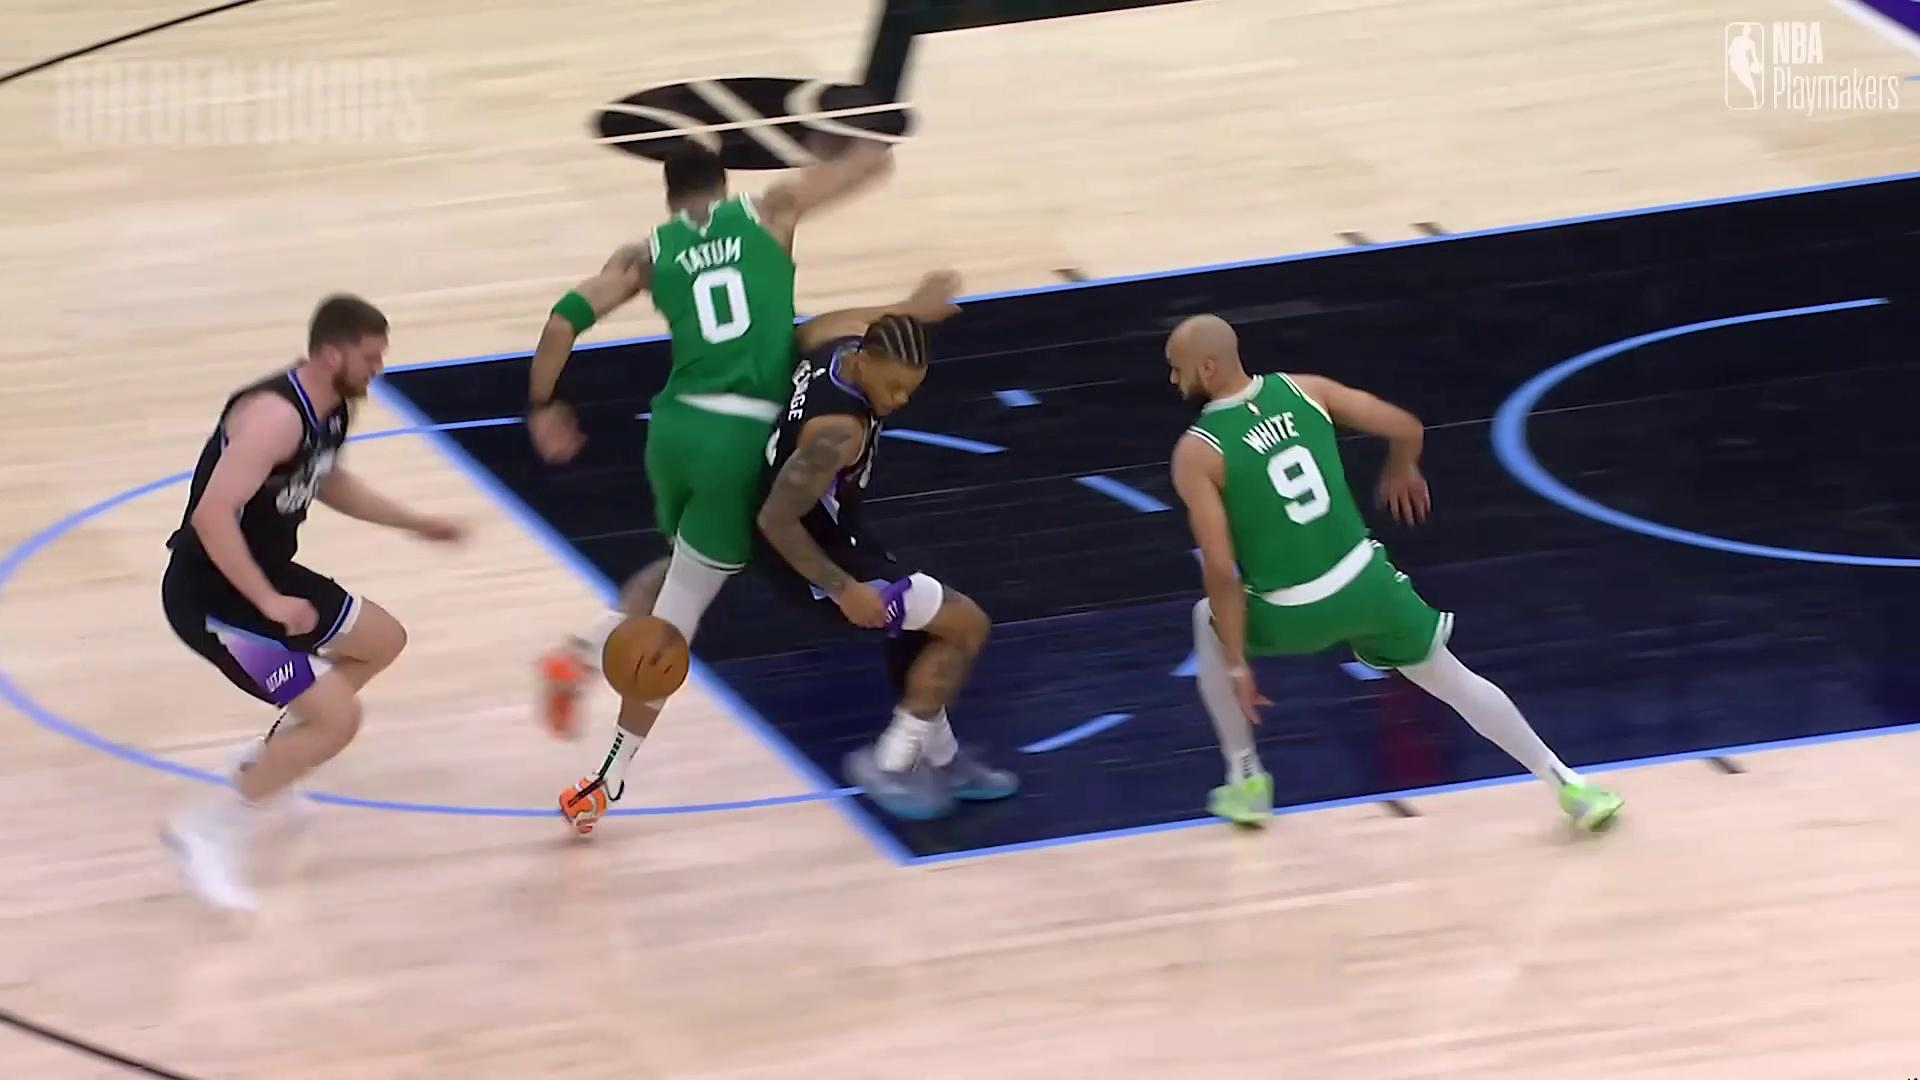ball: (601, 613, 691, 700)
